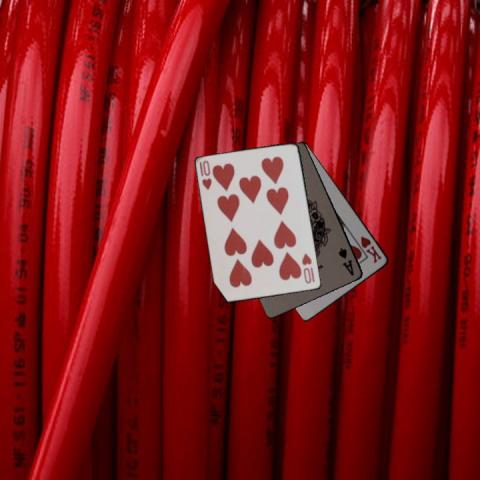10h: (299, 251, 316, 285), (197, 158, 213, 192)
As: (335, 245, 356, 277)
Kh: (358, 233, 384, 265)
